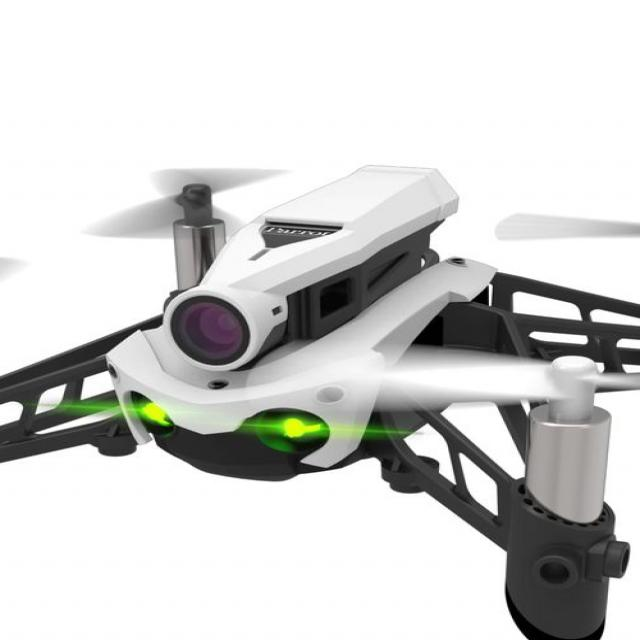drone: (0, 148, 640, 586)
